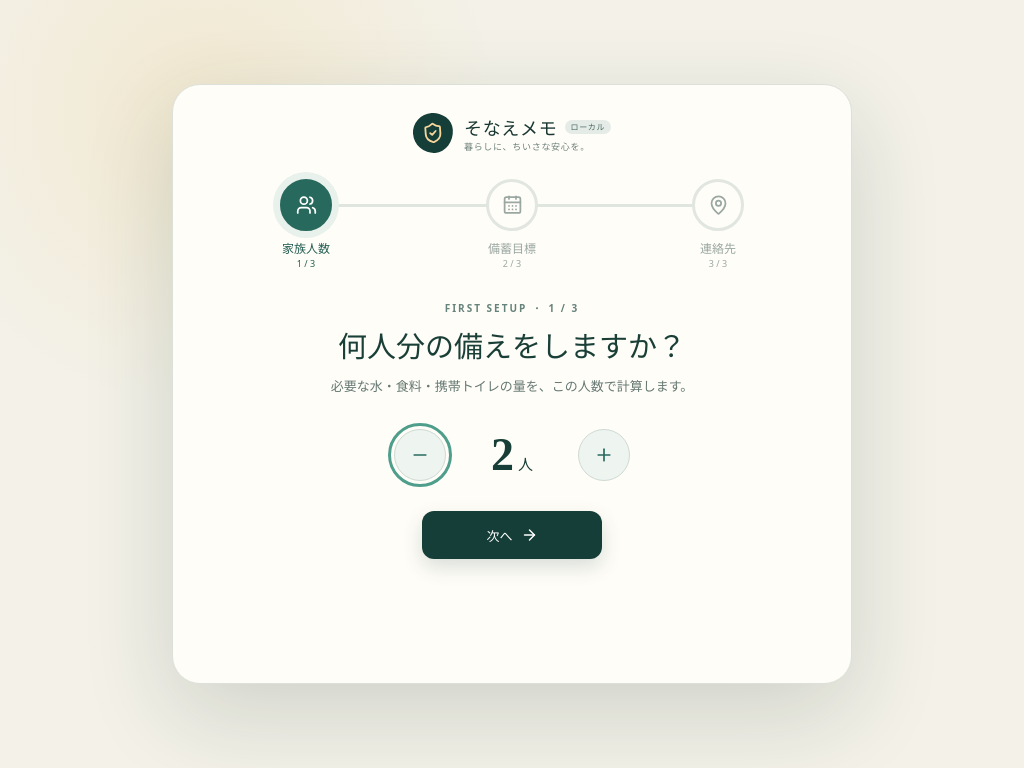
Test: 電力設計ページの導線 › 新規利用者の未確認在庫・生活継続日数・バッグ提案をゼロから始める
Click the button "次へ": (512, 535) [422,511,602,559]
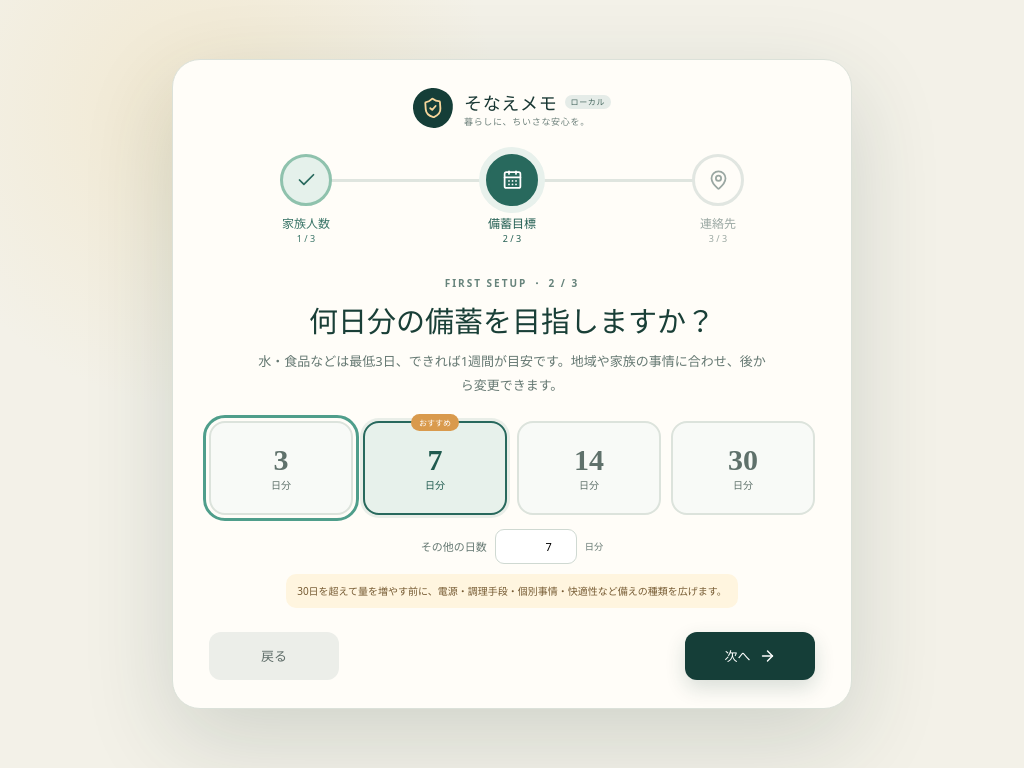
Click the button "次へ": (750, 656) [685,632,815,680]
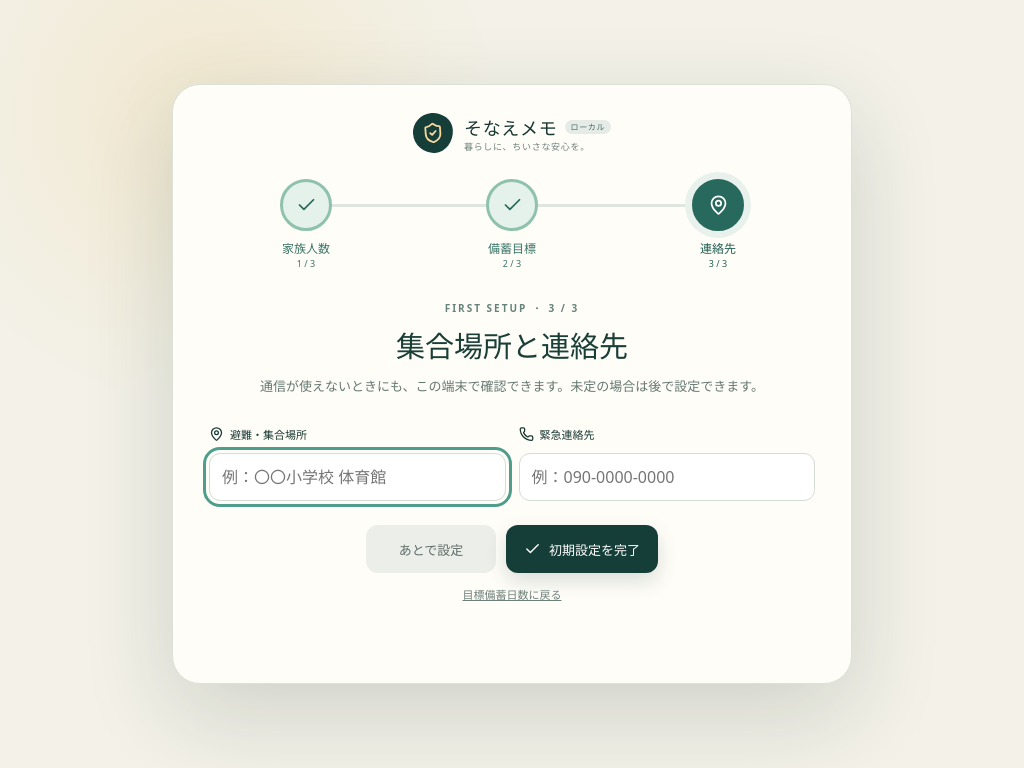
Click the button "あとで設定": (431, 549) [366,525,496,573]
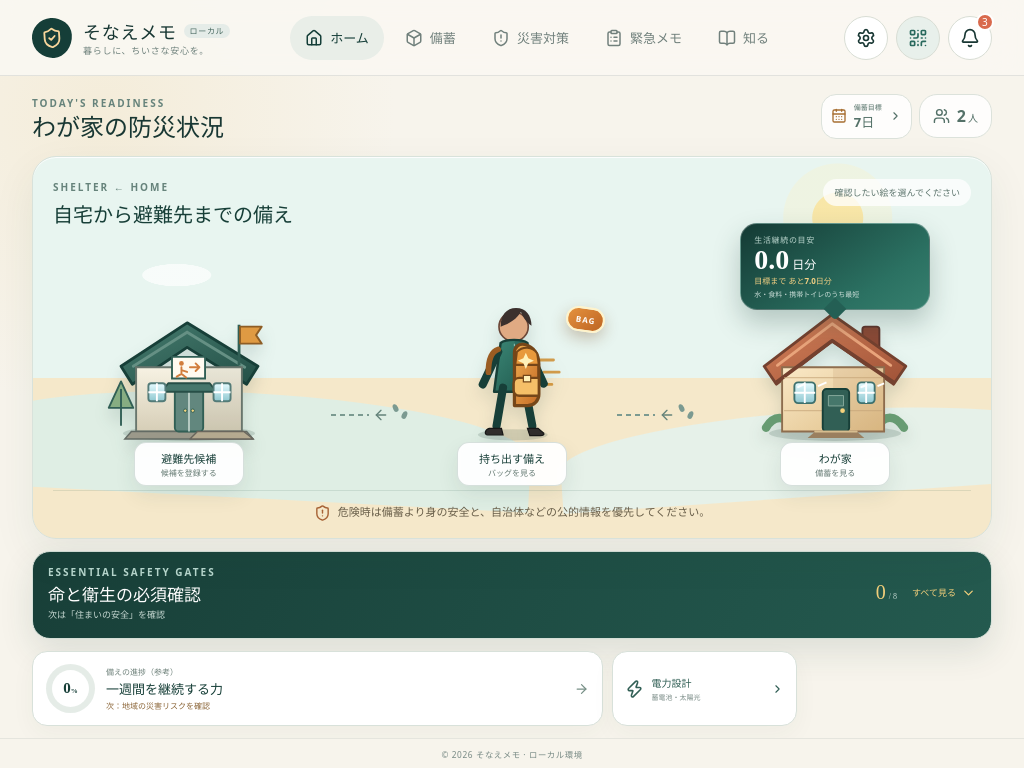
Click the button with aria-label "避難バッグを自動で準備": (512, 393) [414,298,610,488]
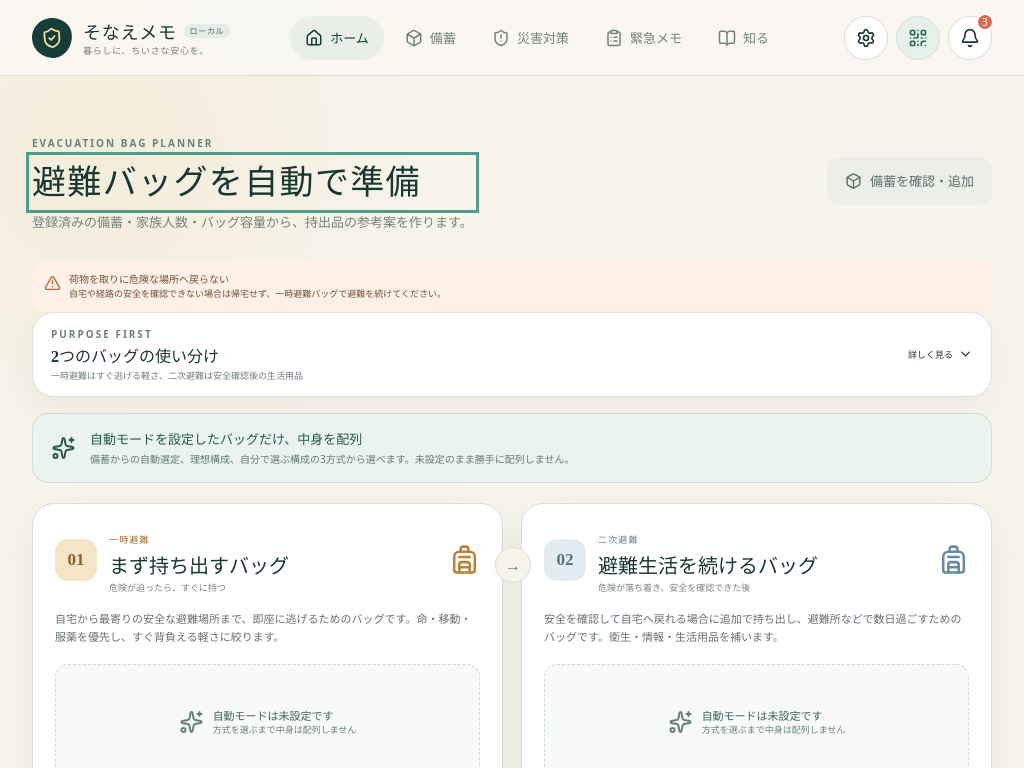
Result: the text "自動モードは未設定です" is shown 2 times at [213,708,334,723]; [702,708,823,723]
Result: the text "方式を選ぶまで中身は配列しません" is shown 2 times at [213,723,356,736]; [702,723,845,736]
